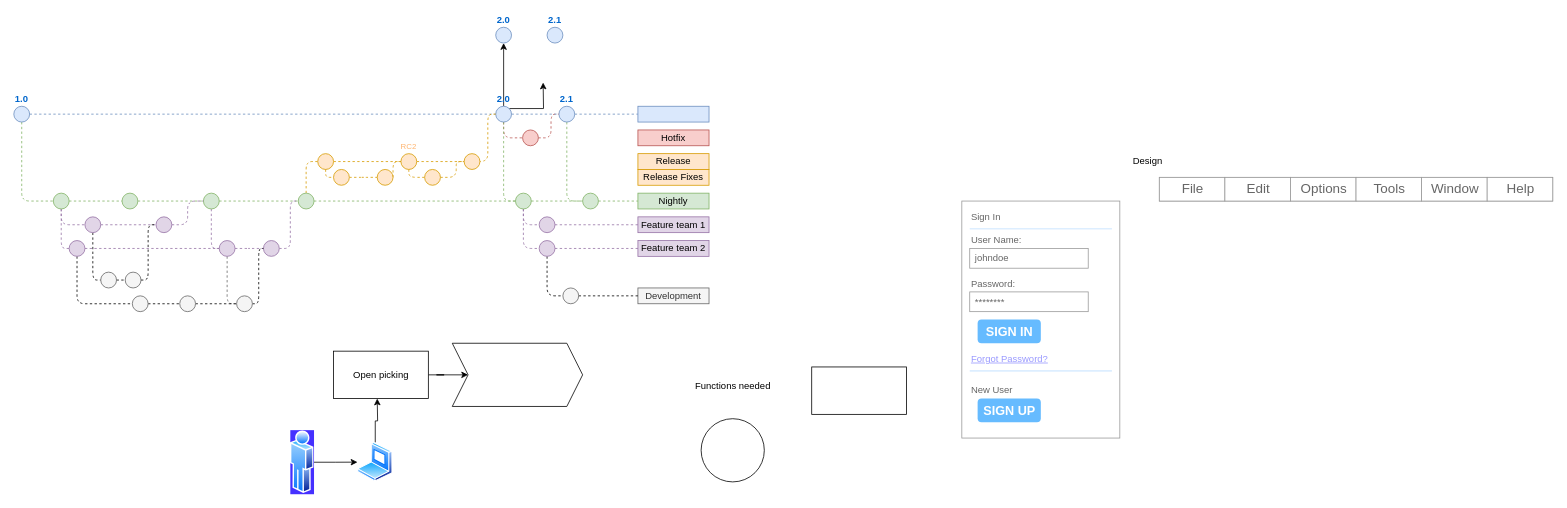
Some shapes in this 1567 by 508 pixel diagram are drawn without their labels. The centre of each missing label's shape, as x and y in pixels:
"Click start picking" goes at [517,374].
"Data needed" goes at [859,390].
"Master" goes at [673,113].
"RC1" goes at [325,161].
"RC3" goes at [471,161].
